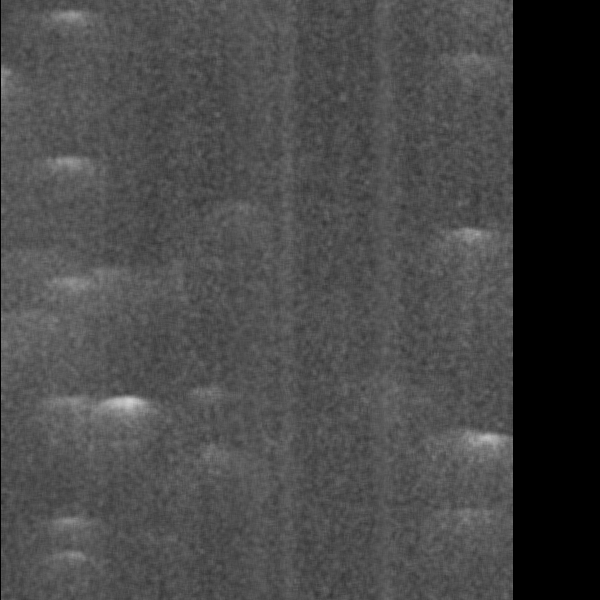spark: (411, 494, 472, 600), (474, 39, 513, 123), (366, 319, 400, 362), (247, 18, 277, 61), (185, 542, 219, 570), (297, 328, 341, 349), (296, 303, 332, 320)
